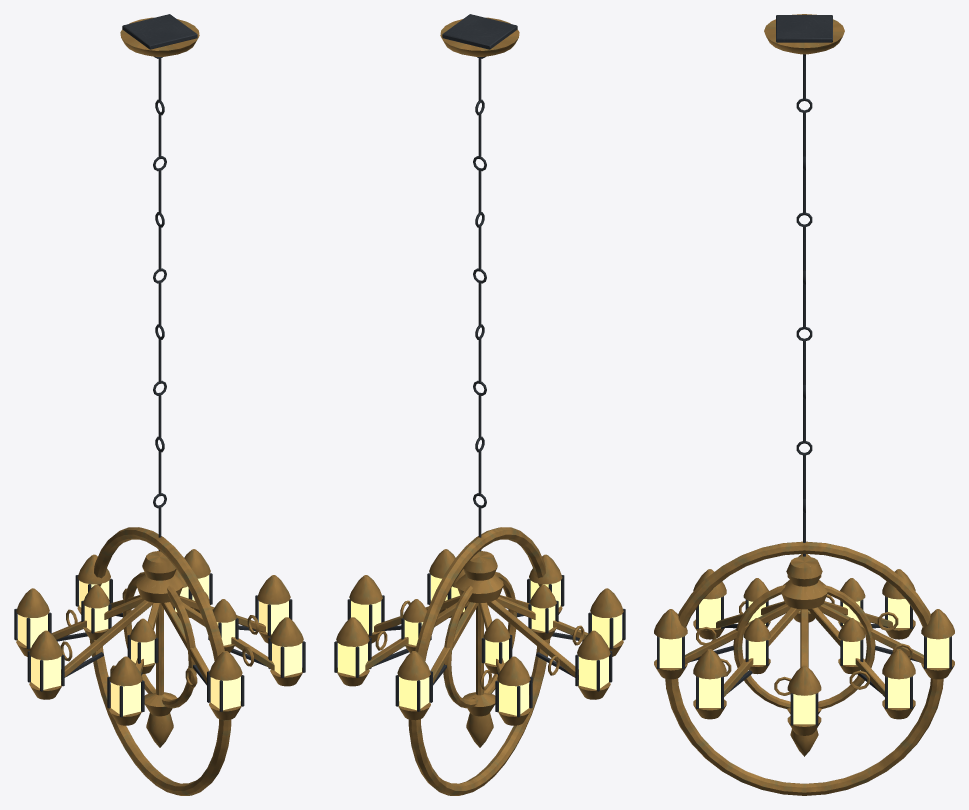
File: settlement_townhall_ceiling_lamp_chandelier.gltf
3 views of the same model, side by side, from view 1: azimuth 30°, elevation 25°; view 2: azimuth 150°, elevation 25°; view 3: azimuth 270°, elevation 25° (orthographic).
Parts seen in each view (by area): view 1: settlement_townhall_ceiling_lamp_chandelier_LOD0; view 2: settlement_townhall_ceiling_lamp_chandelier_LOD0; view 3: settlement_townhall_ceiling_lamp_chandelier_LOD0.
Boxes of the visible parts, box(x1,y1,x2,y2) form: settlement_townhall_ceiling_lamp_chandelier_LOD0: box(14, 14, 305, 795); settlement_townhall_ceiling_lamp_chandelier_LOD0: box(334, 14, 625, 795); settlement_townhall_ceiling_lamp_chandelier_LOD0: box(654, 14, 954, 795).
Size of what is drawn, in the model's own units: 1.49 by 4.19 by 1.49.
Materials: 3 (2 with a texture image).
